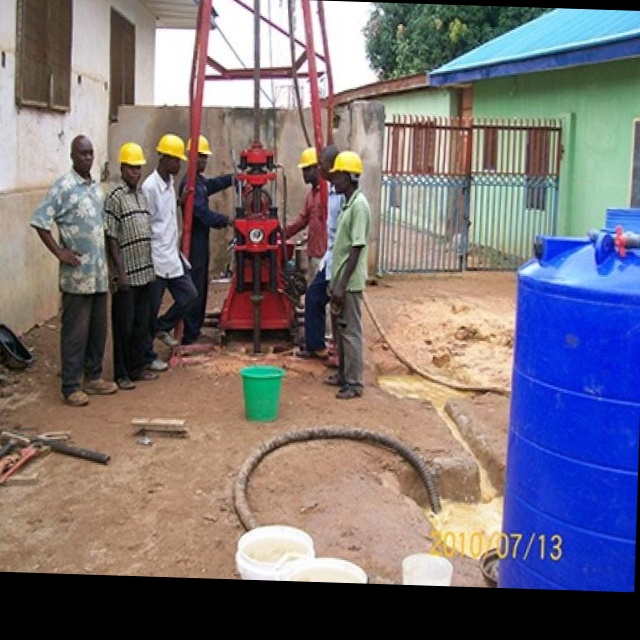Con_Casco: (157, 133, 188, 177), (330, 152, 362, 192), (119, 142, 147, 181)
Sin_Casco_Mascarrilla: (69, 133, 96, 176)
Sin_Chaleco: (51, 180, 107, 276), (109, 186, 156, 285)
